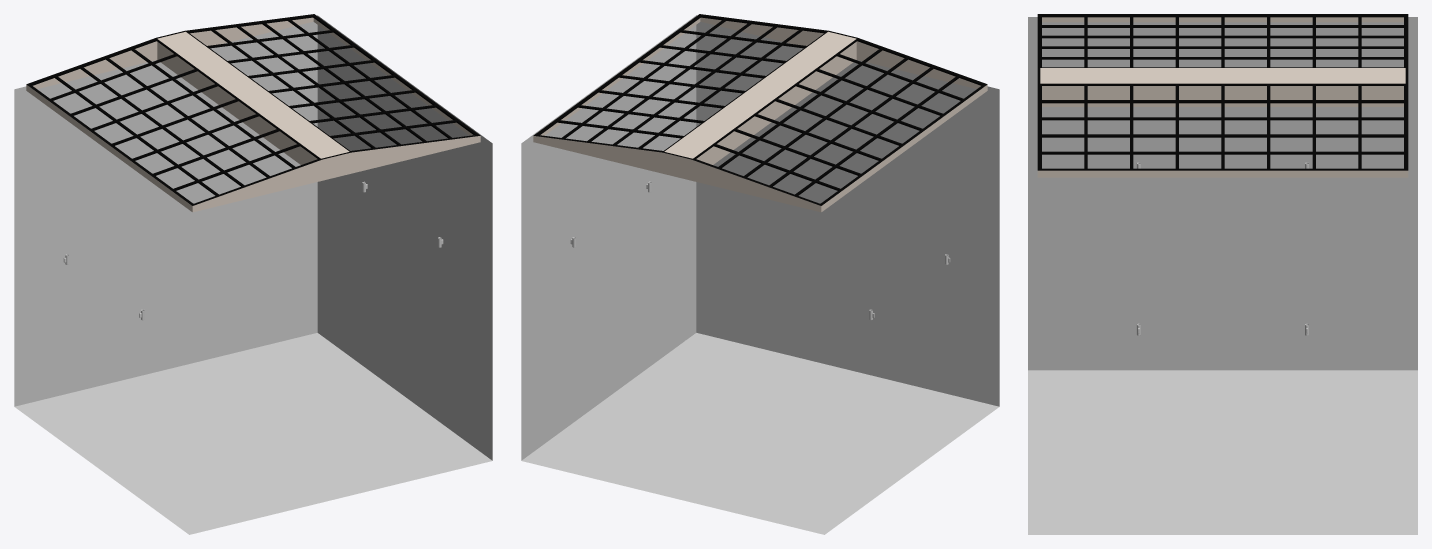
3 renders of one model, left to right at view 1: azimuth 30°, elevation 25°; view 2: azimuth 150°, elevation 25°; view 3: azimuth 270°, elevation 25°, orthographic. The views are drawn at different scales.
Parts seen in each view (by area): view 1: WallBack, Floor, WallR, RoofFrame; view 2: WallFront, Floor, WallR, RoofFrame; view 3: WallL, Floor, RoofFrame.
Boxes of the visible parts, x1,y1,x2,y2 form: WallBack: (14,15,317,406); Floor: (14,333,492,534); WallR: (317,15,492,460); RoofFrame: (26,14,480,212); WallFront: (696,15,999,406); Floor: (521,333,999,534); WallR: (521,15,696,460); RoofFrame: (533,14,987,212); WallL: (1028,17,1417,370); Floor: (1028,370,1417,534); RoofFrame: (1037,14,1408,177).
Bounding box in the file's own units: 10 × 10.67 × 10.
